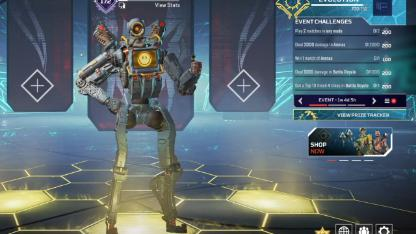Target: (96, 17, 200, 226)
